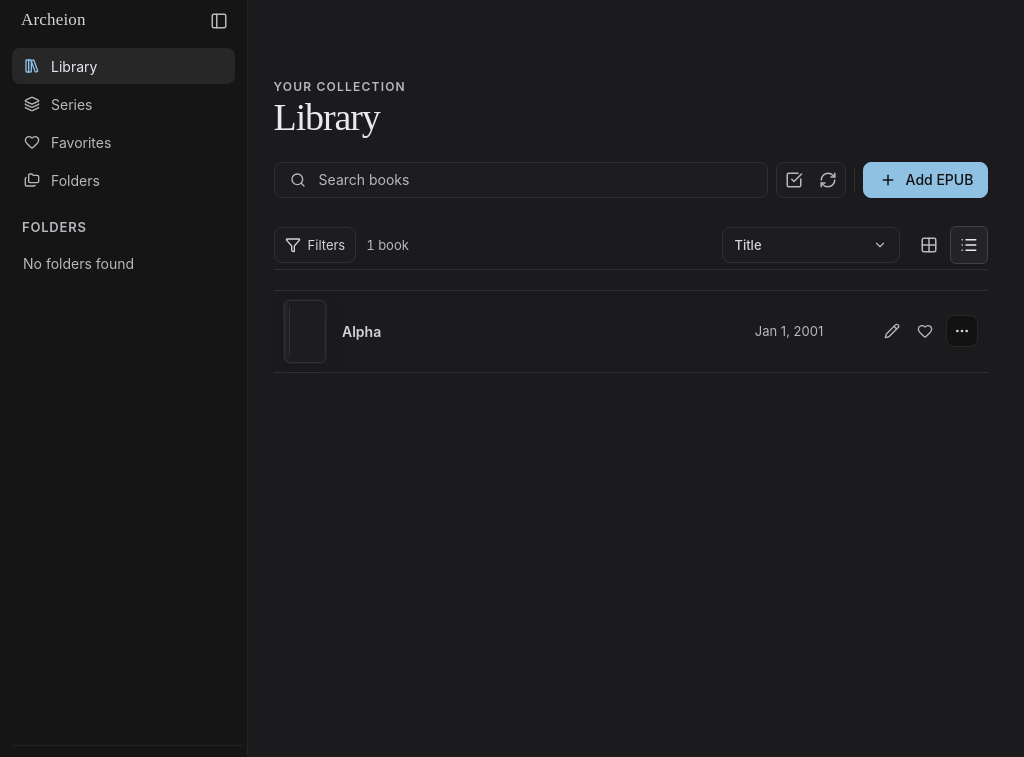
Scenario: LibraryPage selection and bulk workflows › uses the same selection model in list view
Click the button named "Select books": (794, 180) top-left (778, 164), bottom-right (810, 196)
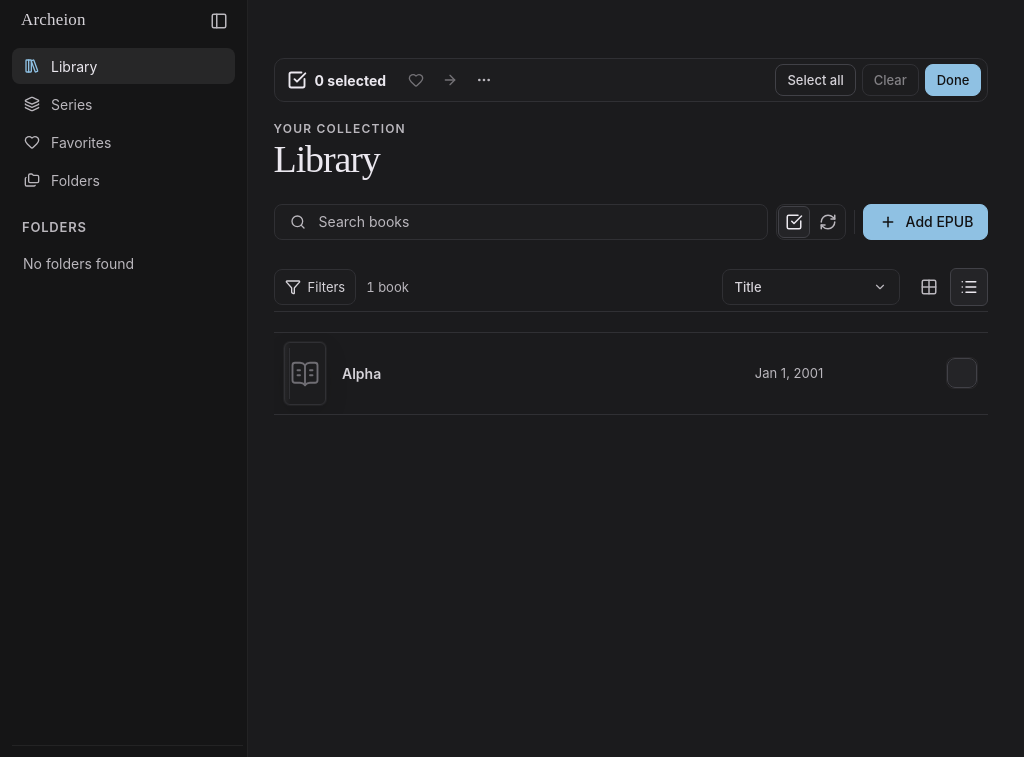
Click the button with class "book-row__select": (305, 373) top-left (274, 333), bottom-right (988, 414)
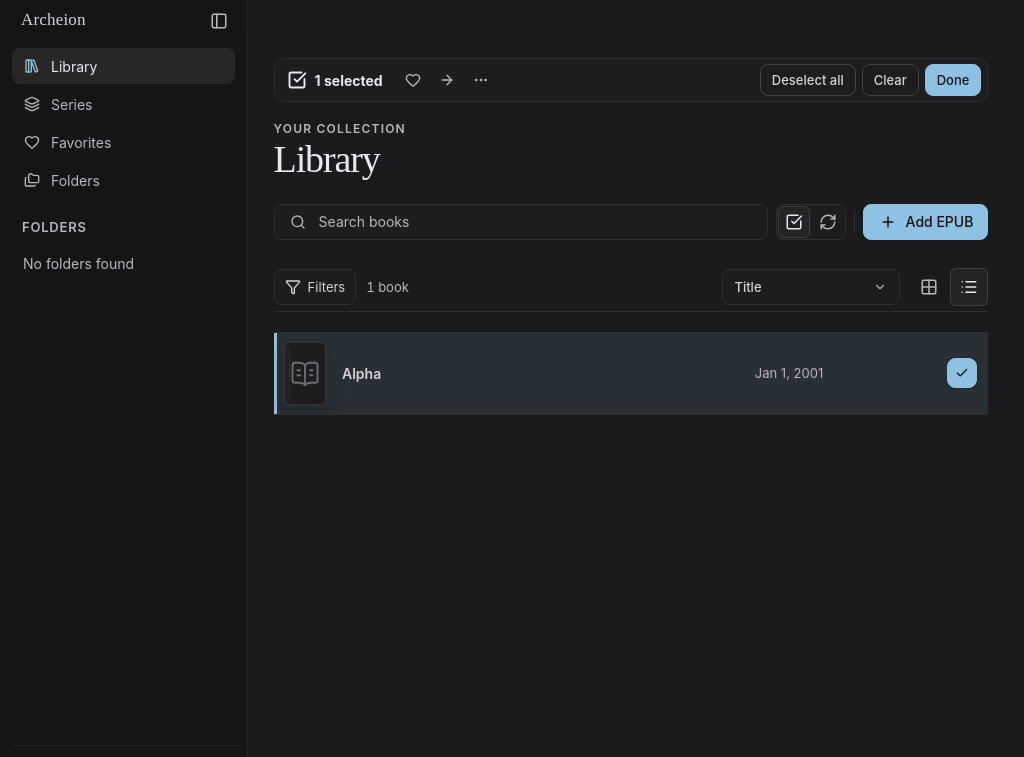
Now the element with class "library-selection-bar" shows "1 selected", box top-left (274, 58), bottom-right (988, 102)
